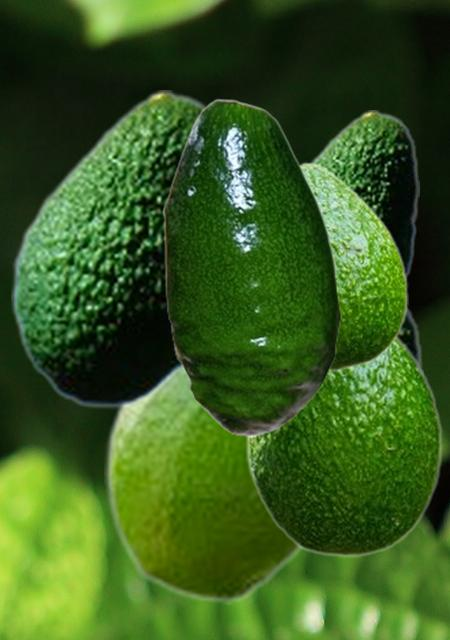avocado: (11, 90, 209, 408), (163, 98, 340, 435), (104, 370, 305, 603), (246, 336, 442, 556), (300, 161, 407, 370), (306, 110, 418, 283), (400, 302, 422, 367)
